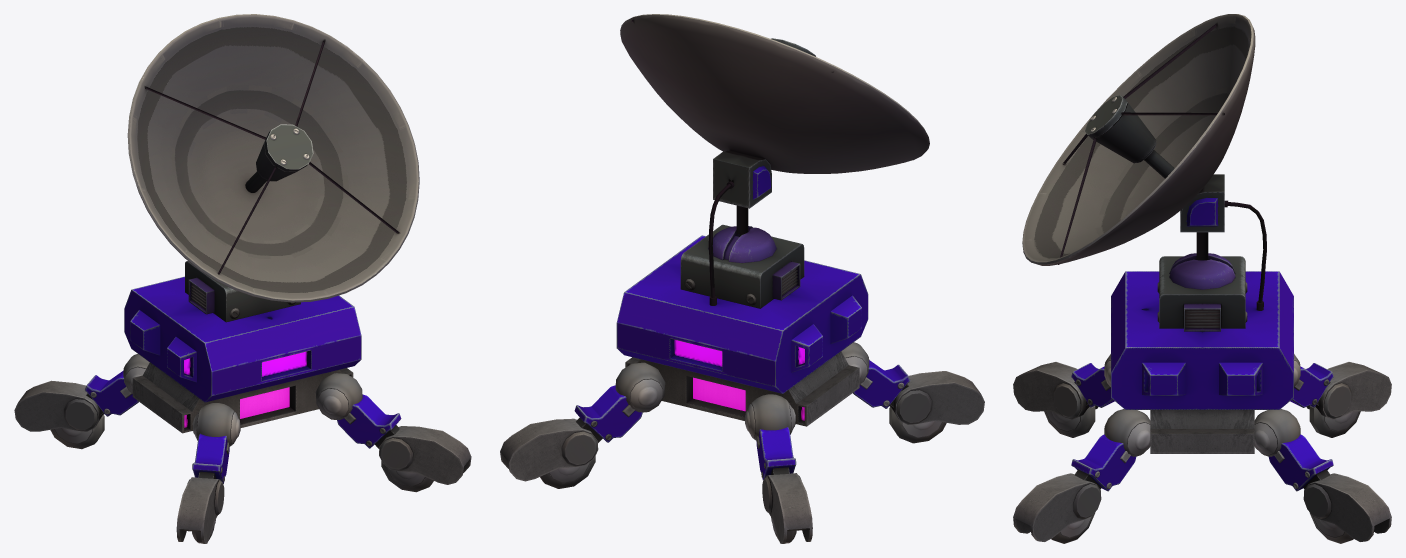
The model's file is AntennaBot.fbx.
3 views of the same model, side by side, from view 1: azimuth 30°, elevation 25°; view 2: azimuth 150°, elevation 25°; view 3: azimuth 270°, elevation 25° (orthographic). The views are drawn at different scales.
Visible parts, largest first — view 1: AntennaBot; view 2: AntennaBot; view 3: AntennaBot.
Part boxes in pixels (x1,y1,x2,y2): AntennaBot: (14, 14, 471, 543); AntennaBot: (500, 14, 984, 543); AntennaBot: (1013, 14, 1391, 543).
Bounding box in the file's own units: 8.49 × 11.9 × 9.01.
